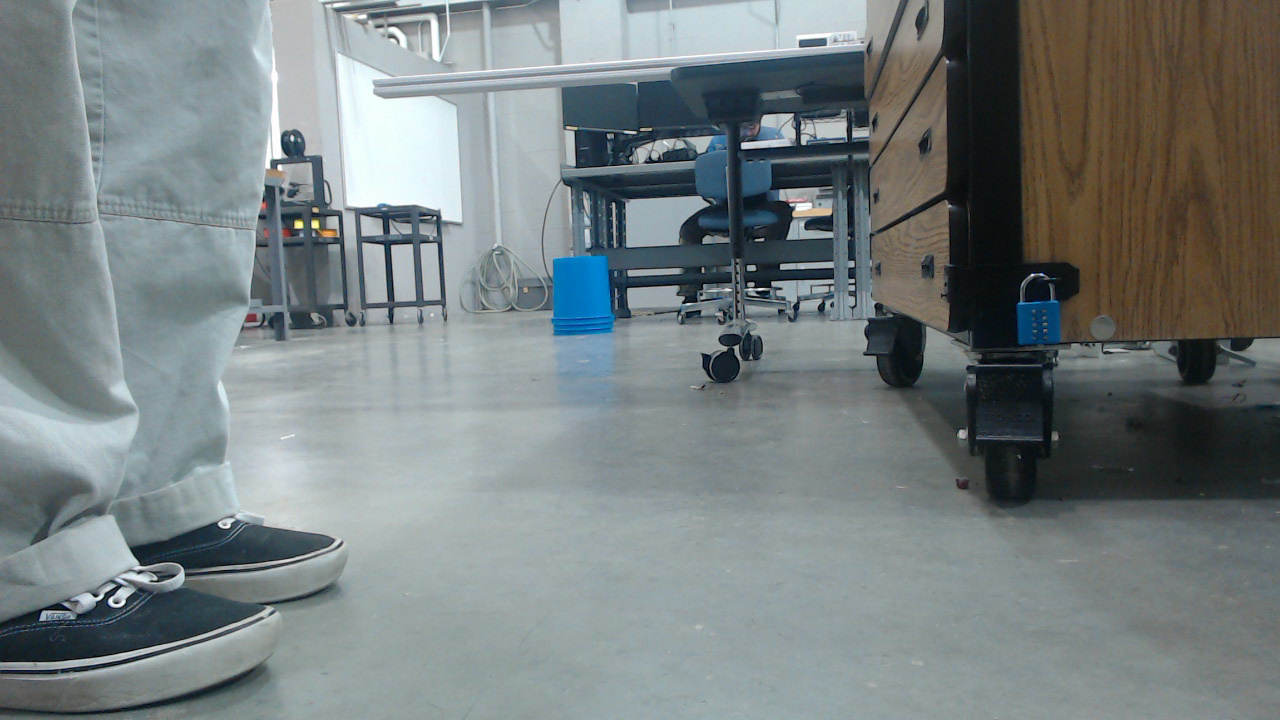blue_bucket: (552, 258, 624, 344)
